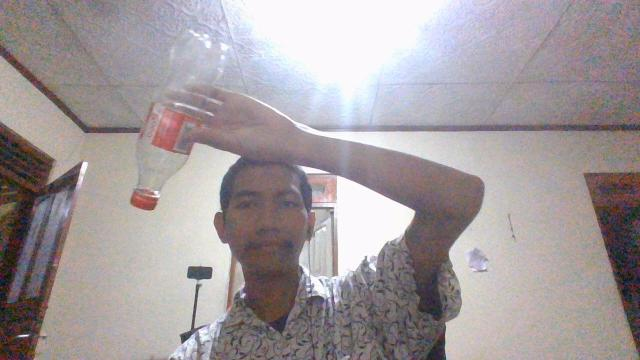coca-cola: (129, 27, 233, 211)
